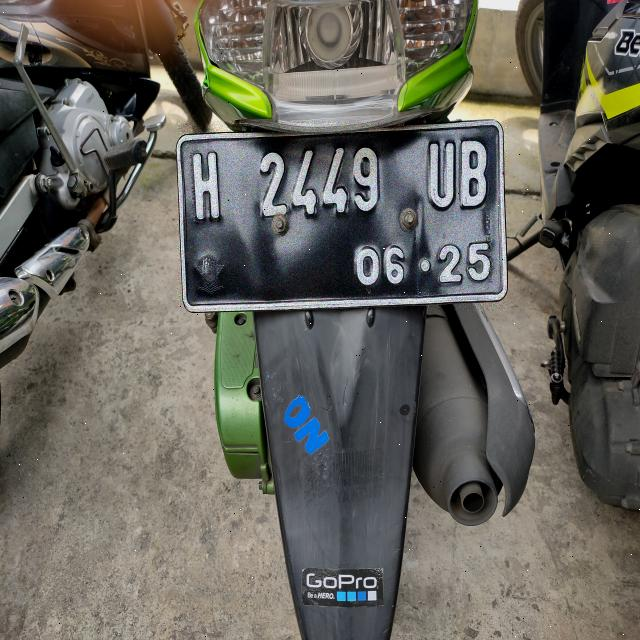plate: (178, 121, 506, 310)
